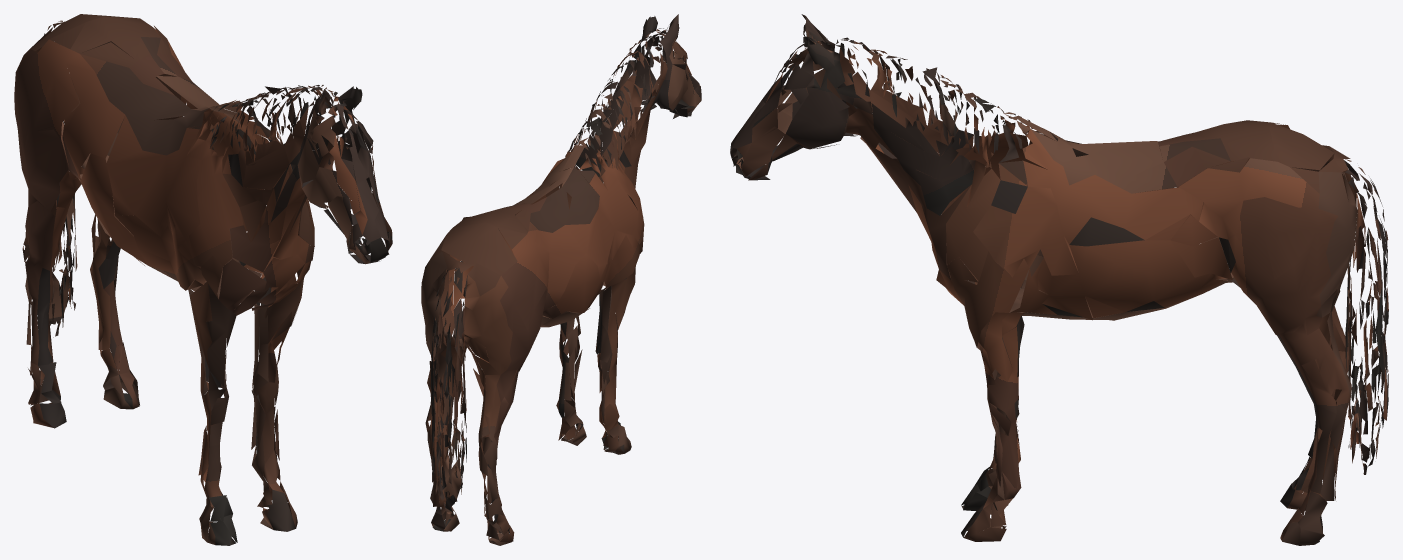
The model's file is horse.glb.
3 views of the same model, side by side, from view 1: azimuth 30°, elevation 25°; view 2: azimuth 150°, elevation 25°; view 3: azimuth 270°, elevation 25° (orthographic). The views are drawn at different scales.
Visible parts, largest first — view 1: LO.001; view 2: LO.001; view 3: LO.001.
Boxes of the visible parts, x1,y1,x2,y2 form: LO.001: (14,14,392,545); LO.001: (421,14,701,545); LO.001: (730,14,1388,545).
Size of the model in its own units: 0.4649 by 1.59 by 1.9.
Materials: 1 (1 with a texture image).
